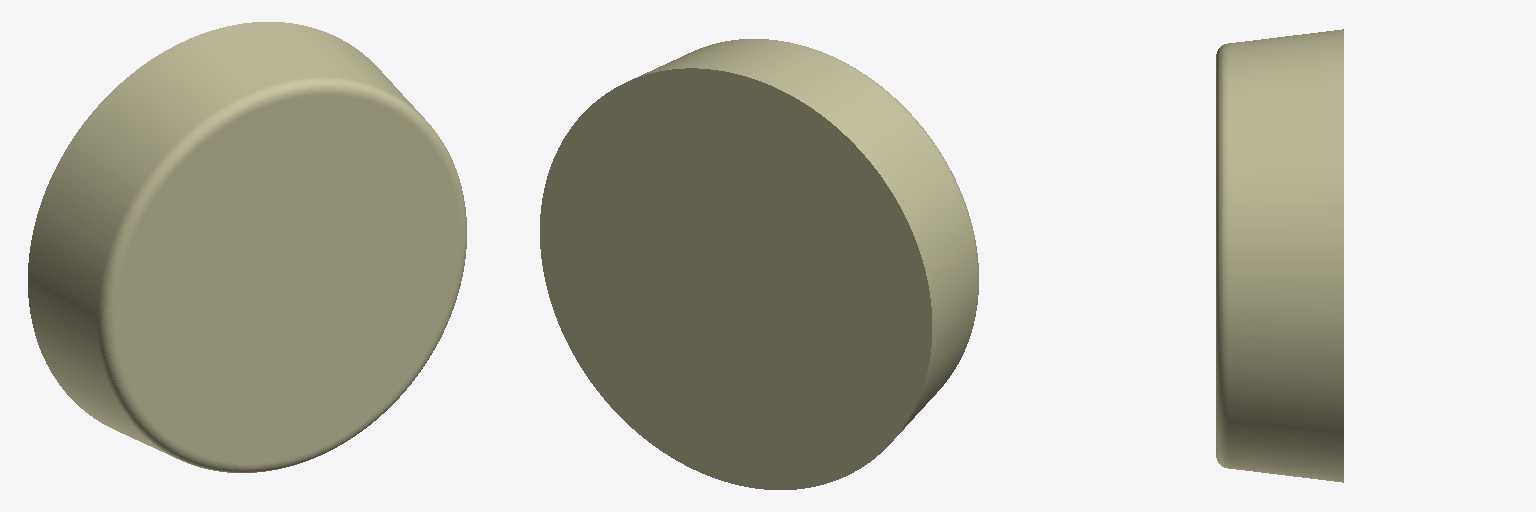
The picture shows the model from 3 angles: view 1: azimuth 30°, elevation 25°; view 2: azimuth 150°, elevation 25°; view 3: azimuth 270°, elevation 25°; orthographic projection.
Visible parts, largest first — view 1: <STL_BINARY>; view 2: <STL_BINARY>; view 3: <STL_BINARY>.
Boxes of the visible parts, <box> form: <STL_BINARY>: <box>28,22,466,472</box>; <STL_BINARY>: <box>540,39,978,489</box>; <STL_BINARY>: <box>1216,29,1343,482</box>.
Size of the model in its own units: 70 by 70 by 19.7.